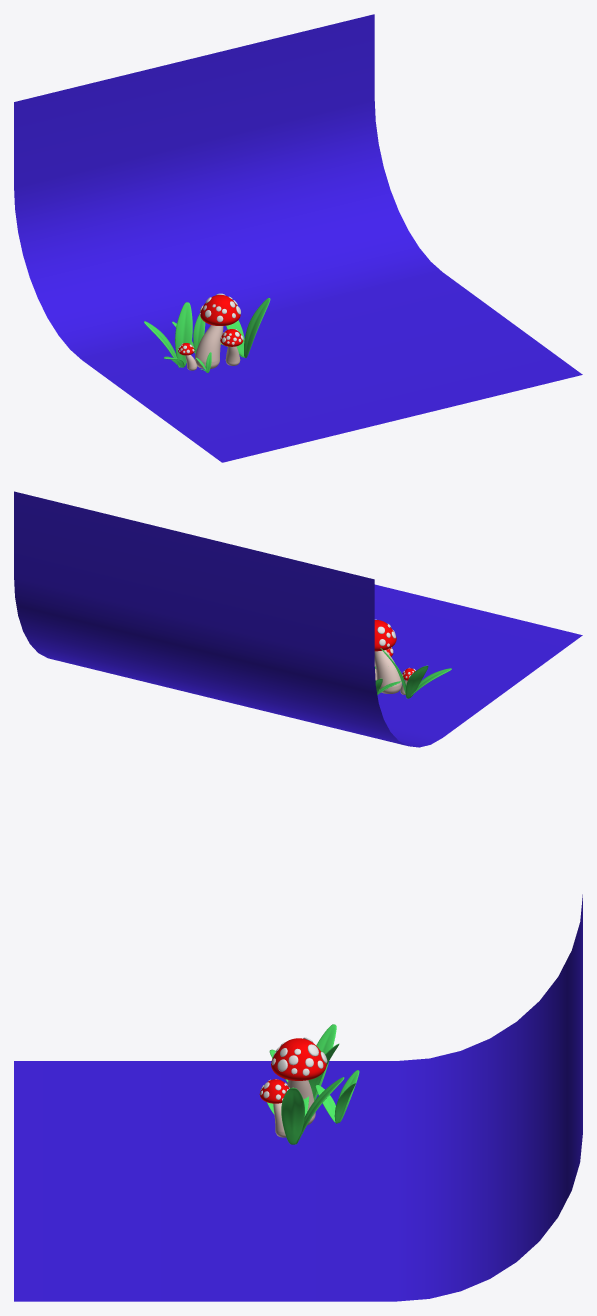
File: Mushroom.fbx
The picture shows the model from 3 angles, top to bottom: view 1: azimuth 30°, elevation 25°; view 2: azimuth 150°, elevation 25°; view 3: azimuth 270°, elevation 25°; orthographic projection. The views are drawn at different scales.
Visible parts, largest first — view 1: Plane.005, Plane.001, Circle, Circle.001, Plane; view 2: Plane.005, Circle, Plane.001, Circle.001; view 3: Plane.005, Plane, Circle.001, Plane.002, Plane.001.
Part boxes in pixels (left/top/right/bottom): Plane.005: left=14, top=14, right=582, bottom=462; Plane.001: left=144, top=302, right=192, bottom=367; Circle: left=195, top=325, right=223, bottom=368; Circle.001: left=200, top=295, right=240, bottom=325; Plane: left=221, top=298, right=270, bottom=357; Plane.005: left=14, top=491, right=582, bottom=747; Circle: left=374, top=650, right=401, bottom=693; Plane.001: left=380, top=648, right=451, bottom=698; Circle.001: left=374, top=620, right=396, bottom=651; Plane.005: left=14, top=894, right=582, bottom=1301; Plane: left=281, top=1077, right=344, bottom=1144; Circle.001: left=271, top=1038, right=326, bottom=1080; Plane.002: left=315, top=1070, right=359, bottom=1123; Plane.001: left=269, top=1024, right=339, bottom=1100.
Size of the model in its own units: 2427 by 1343 by 2427.
